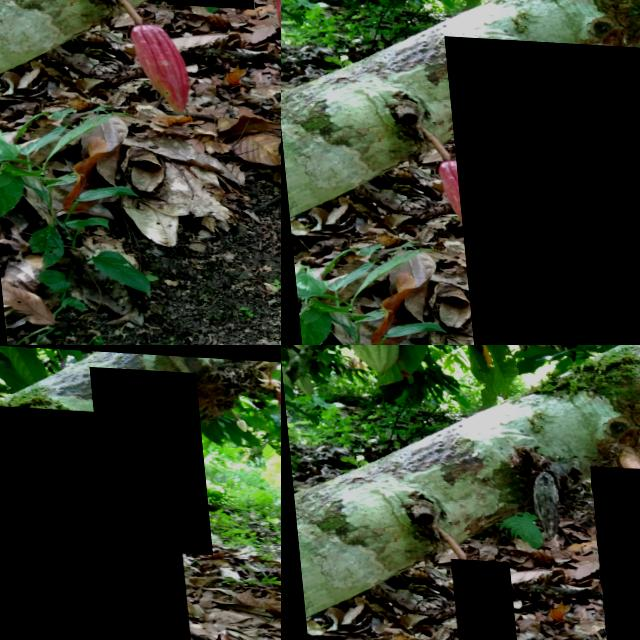Sana: (441, 34, 640, 345), (0, 391, 204, 640), (89, 362, 209, 549), (445, 557, 510, 640), (334, 345, 405, 377)
